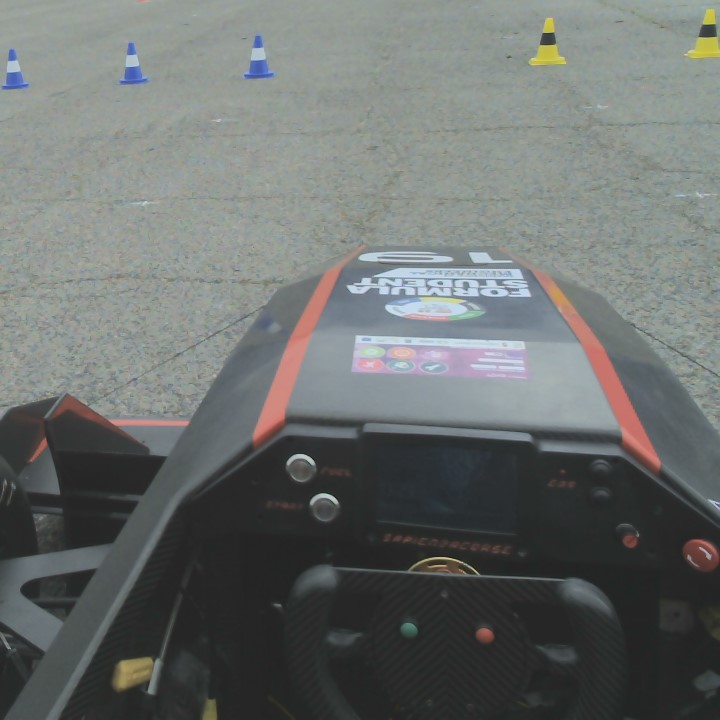cone: (119, 39, 150, 84), (244, 34, 272, 78), (1, 48, 29, 89)
